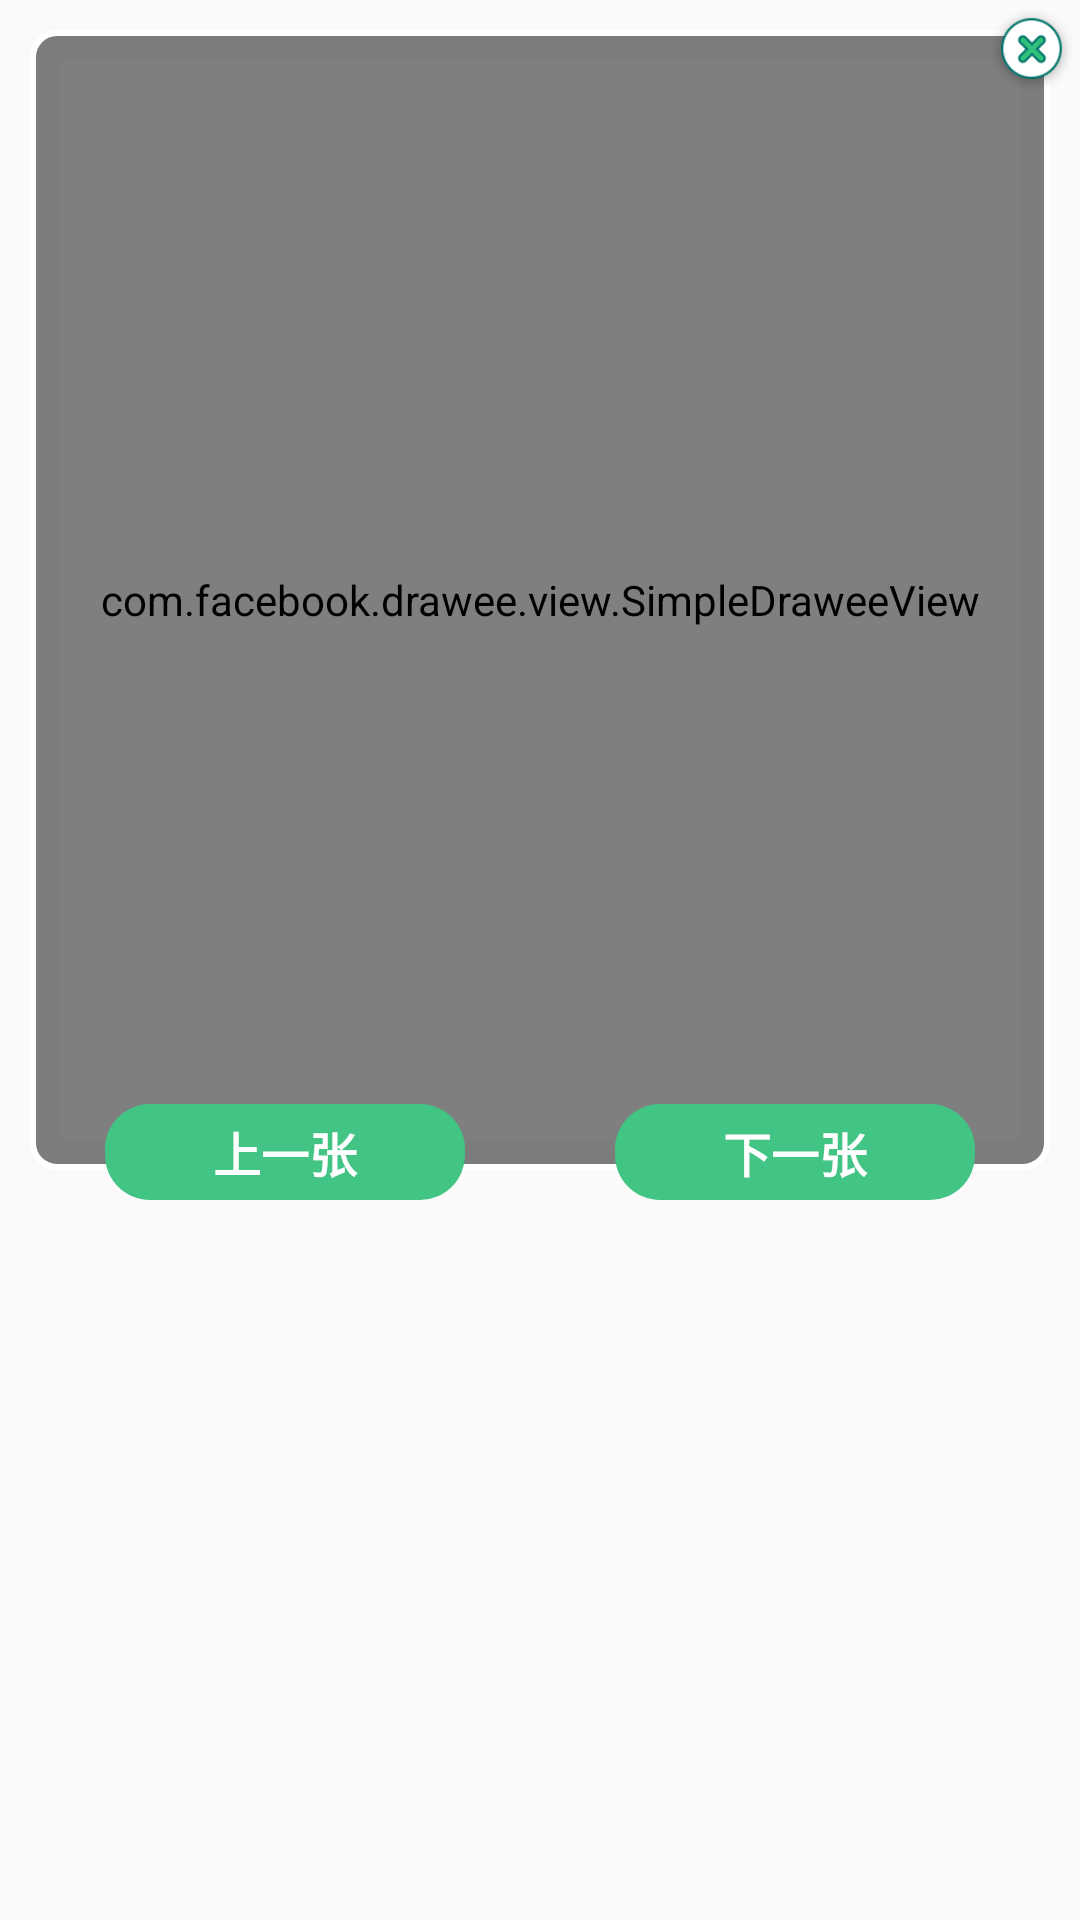

Icon bounding boxes for this 1080×1920 phone screenshot, format (x1, y1, x2, y2):
delete: (990, 18, 1064, 90)
